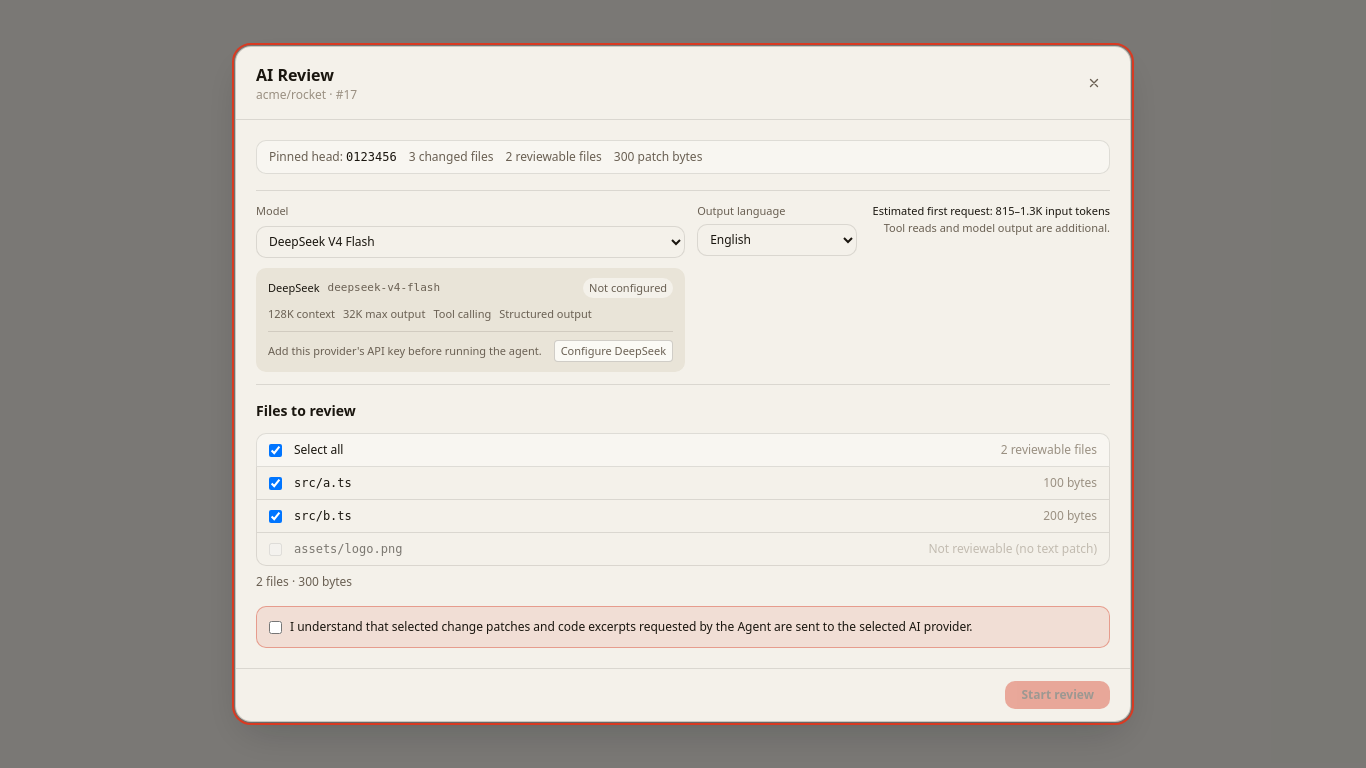
Scenario: PrReviewWorkspace › routes GitLab merge request analysis and confirmed publication through GitLab IPC
Expected: the text "0123456" is shown, [346,150,397,164]
Step 1. Click the checkbox labelled "I understand" → (276, 628), box [269,621,282,634]
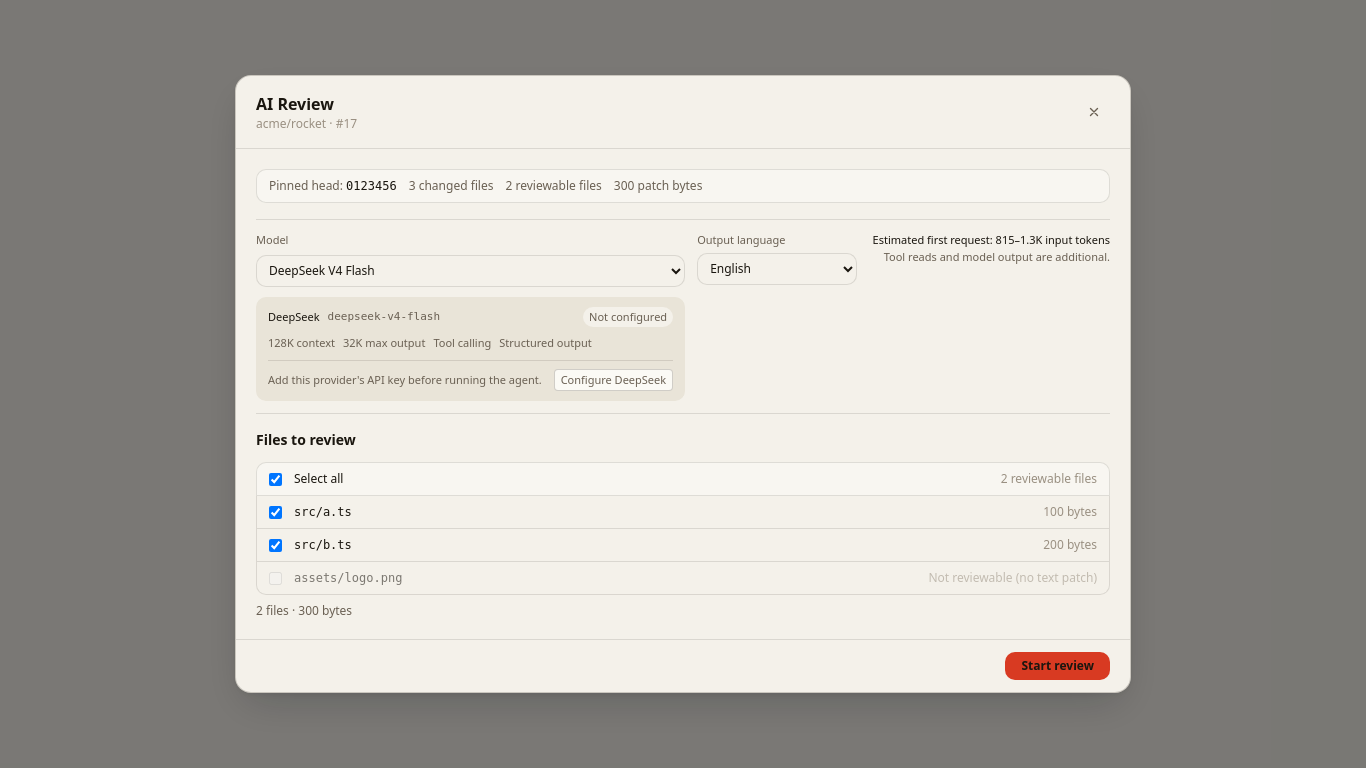
Step 2. Click the button "Start review" → (1058, 666), box [1006,652,1110,680]
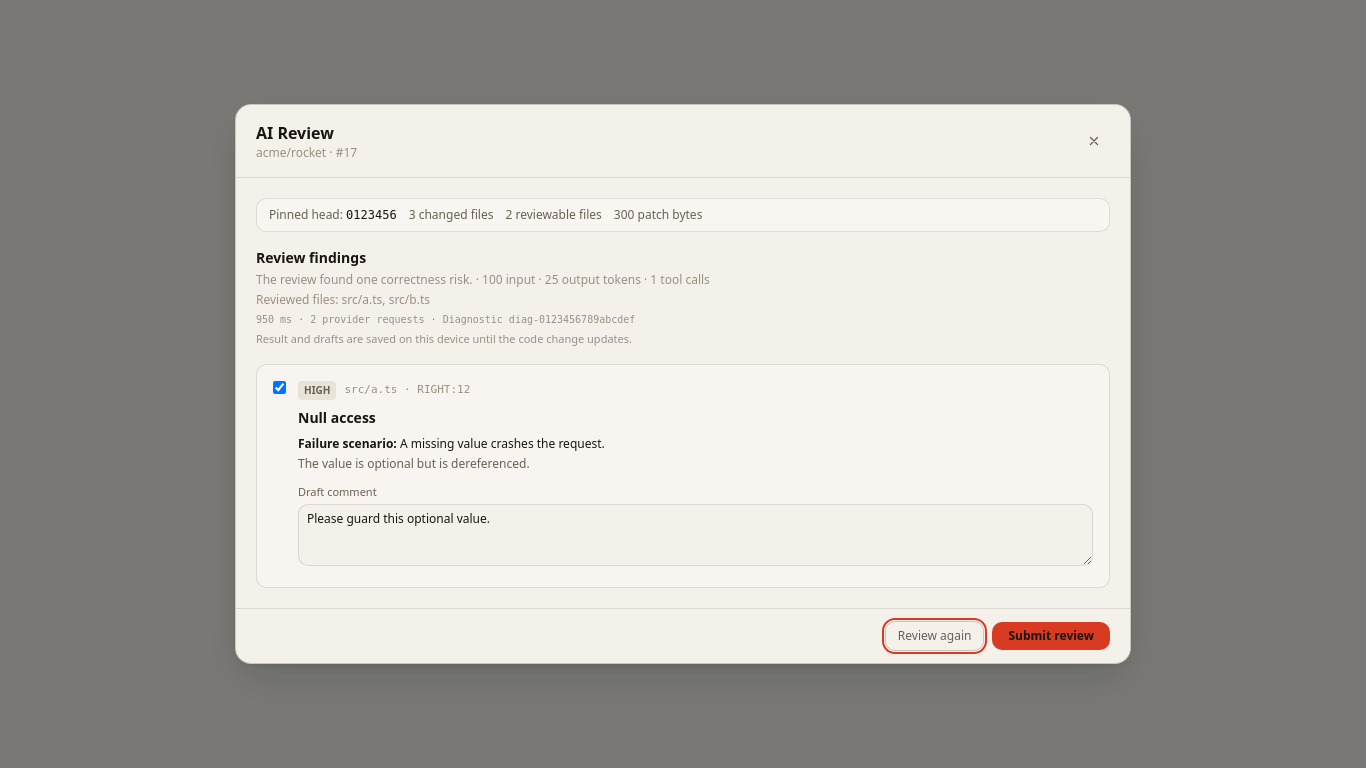
Expected: the heading "Null access" is shown, [298,408,376,427]
Step 3. Click the button "Submit review" → (1051, 636), box [992,622,1110,650]
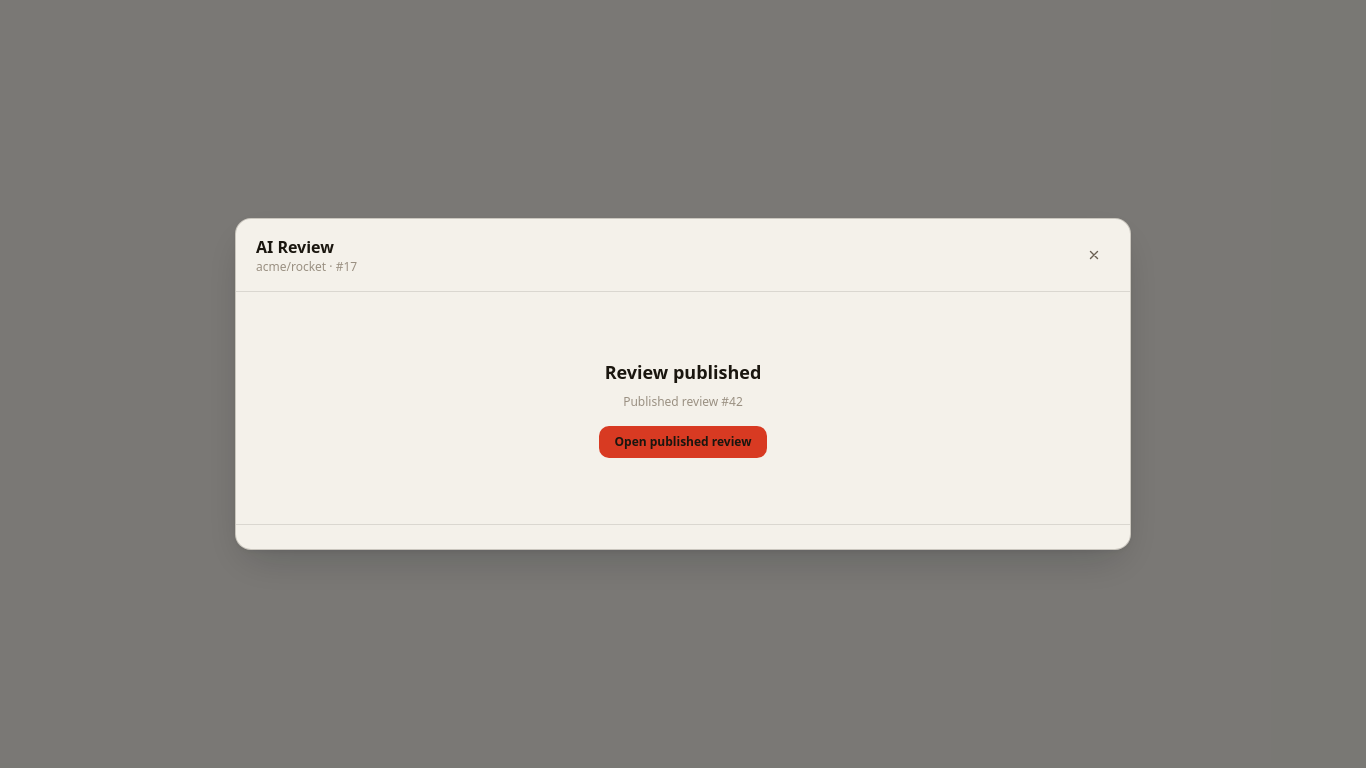
Expected: the text "Published review #42" is shown, [623,393,743,410]
